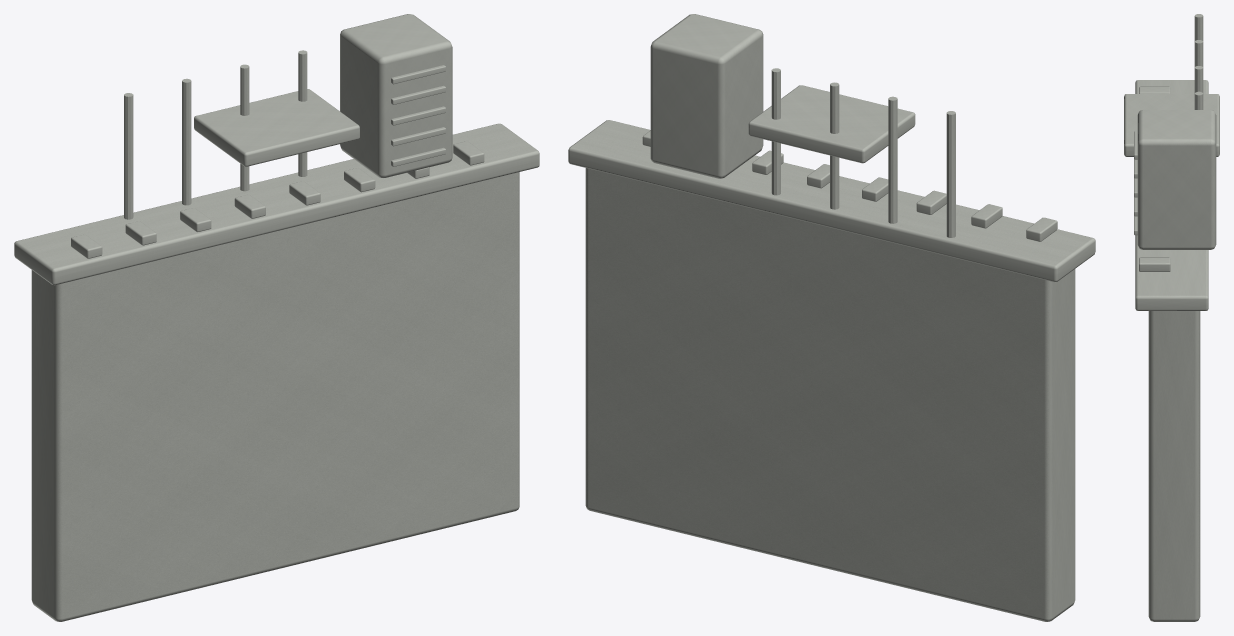
Rendered from night_market_roofline.glb.
3 renders of one model, left to right at view 1: azimuth 30°, elevation 25°; view 2: azimuth 150°, elevation 25°; view 3: azimuth 270°, elevation 25°, orthographic. The views are drawn at different scales.
Parts seen in each view (by area): view 1: ENV_NMK_Roof_Parapet, ENV_NMK_Roof_Cap, ENV_NMK_Roof_Duct, ENV_NMK_Roof_Service_Hatch, ENV_NMK_Roof_Pipe.001, ENV_NMK_Roof_Pipe, ENV_NMK_Roof_Pipe.002, ENV_NMK_Roof_Pipe.003; view 2: ENV_NMK_Roof_Parapet, ENV_NMK_Roof_Cap, ENV_NMK_Roof_Duct, ENV_NMK_Roof_Service_Hatch, ENV_NMK_Roof_Pipe.001, ENV_NMK_Roof_Pipe, ENV_NMK_Roof_Pipe.003, ENV_NMK_Roof_Pipe.002; view 3: ENV_NMK_Roof_Parapet, ENV_NMK_Roof_Duct, ENV_NMK_Roof_Cap, ENV_NMK_Roof_Service_Hatch, ENV_NMK_Roof_Coping_Clamp.007, ENV_NMK_Roof_Pipe.002, ENV_NMK_Roof_Pipe, ENV_NMK_Roof_Pipe.001, ENV_NMK_Roof_Coping_Clamp, ENV_NMK_Roof_Pipe.003.
Part boxes in pixels (x1,y1,x2,y2): ENV_NMK_Roof_Parapet: [31, 172, 519, 621]; ENV_NMK_Roof_Cap: [14, 123, 539, 285]; ENV_NMK_Roof_Duct: [340, 14, 452, 178]; ENV_NMK_Roof_Service_Hatch: [194, 89, 359, 166]; ENV_NMK_Roof_Pipe.001: [182, 78, 191, 205]; ENV_NMK_Roof_Pipe: [124, 93, 133, 219]; ENV_NMK_Roof_Pipe.002: [240, 64, 249, 191]; ENV_NMK_Roof_Pipe.003: [298, 50, 307, 176]; ENV_NMK_Roof_Parapet: [585, 168, 1075, 621]; ENV_NMK_Roof_Cap: [568, 120, 1095, 282]; ENV_NMK_Roof_Duct: [650, 14, 763, 178]; ENV_NMK_Roof_Service_Hatch: [748, 85, 915, 163]; ENV_NMK_Roof_Pipe.001: [888, 96, 897, 223]; ENV_NMK_Roof_Pipe: [946, 111, 955, 237]; ENV_NMK_Roof_Pipe.003: [771, 68, 780, 195]; ENV_NMK_Roof_Pipe.002: [830, 82, 839, 209]; ENV_NMK_Roof_Parapet: [1148, 311, 1200, 621]; ENV_NMK_Roof_Duct: [1137, 110, 1216, 249]; ENV_NMK_Roof_Cap: [1135, 80, 1208, 310]; ENV_NMK_Roof_Service_Hatch: [1124, 94, 1219, 156]; ENV_NMK_Roof_Coping_Clamp.007: [1139, 257, 1170, 271]; ENV_NMK_Roof_Pipe.002: [1194, 66, 1203, 92]; ENV_NMK_Roof_Pipe: [1194, 14, 1203, 41]; ENV_NMK_Roof_Pipe.001: [1194, 40, 1203, 66]; ENV_NMK_Roof_Coping_Clamp: [1139, 86, 1170, 93]; ENV_NMK_Roof_Pipe.003: [1194, 91, 1203, 109].
Size of what is drawn, in the model's own units: 4.2 by 4.05 by 0.78.
4 materials, 4 textured.
